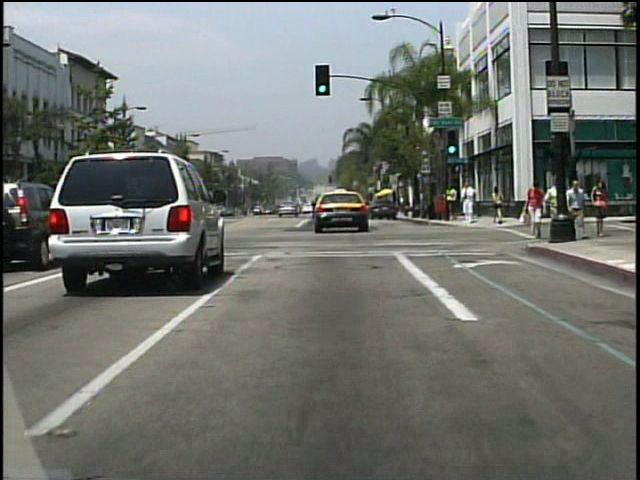person: (520, 182, 547, 242), (567, 179, 589, 241), (544, 179, 564, 240), (590, 178, 610, 239), (552, 180, 568, 229), (529, 188, 544, 229), (490, 187, 505, 227), (463, 184, 476, 226), (446, 182, 458, 222)
